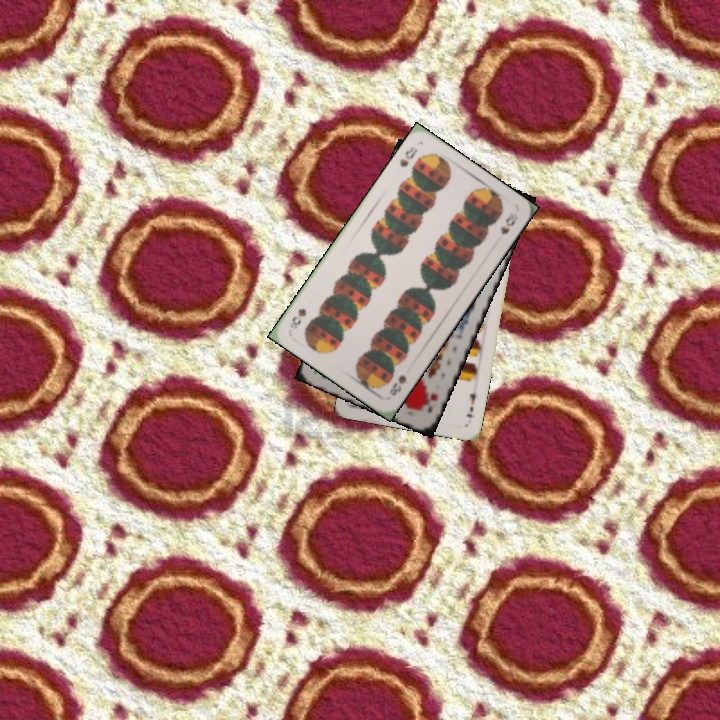E7: (462, 385, 479, 420)
HK: (416, 389, 441, 416)
S8: (395, 142, 420, 170), (385, 371, 409, 399)
